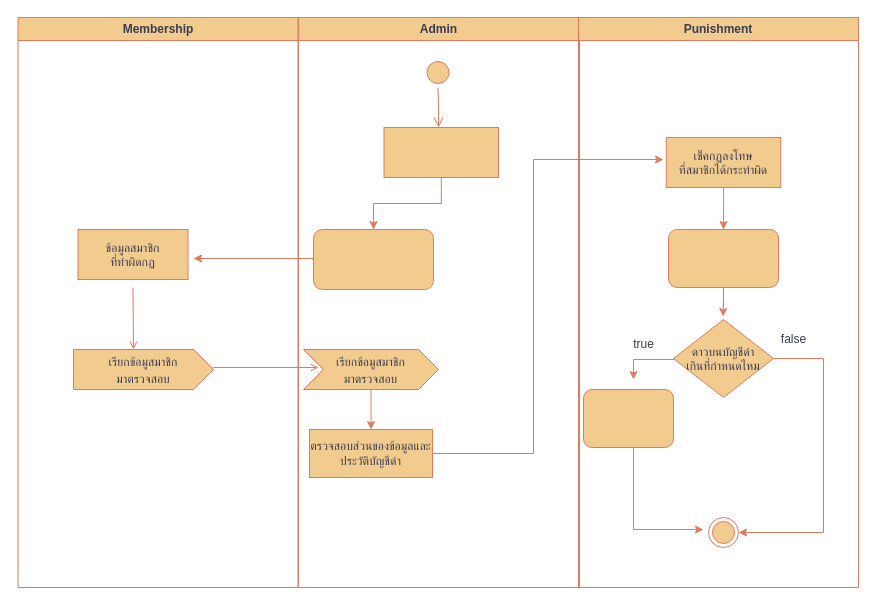
Image size: 876x605. Some labels were removed from this diagram. The shapes that lost their labels are listed below. From the top down, each one's centre as x and y in pixels, then its label:
the point at 440,152: เริ่มกระบวนการลงโทษ
the point at 373,259: แอดมินทำ การตรวจสอบสมาขิกที่ ทำผิดกฏ
the point at 723,258: ทำการลงโทษตากมกฏที่ระบุ และเพิ่มดาวลงบัญชีดำ
the point at 628,418: สมาชิกนั้นพ้นจาการเป็น Membership
